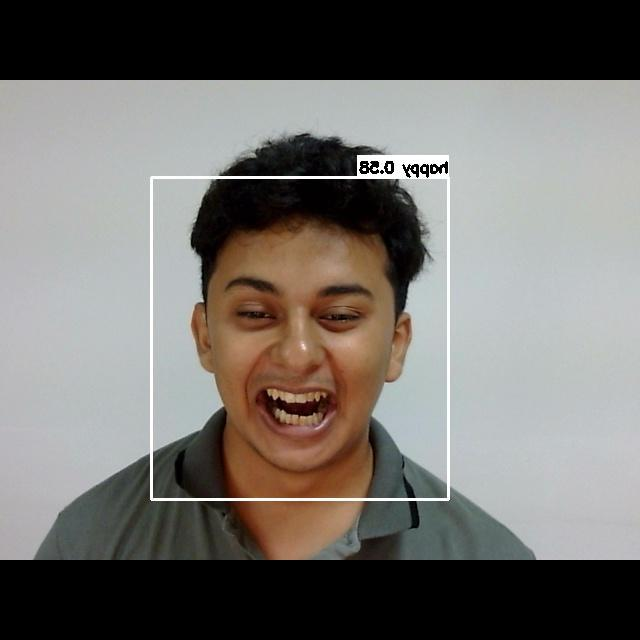Surprised: (196, 250, 403, 466)
